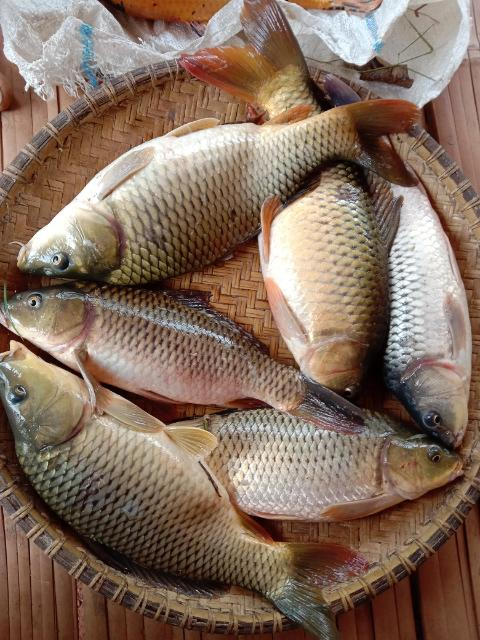Mulut: (0, 328, 42, 388), (2, 235, 48, 288), (438, 430, 478, 486), (444, 408, 480, 458)
Sirip Anal: (255, 92, 316, 132)
Sirip Dada: (253, 266, 322, 356), (309, 478, 421, 532), (424, 285, 480, 391), (80, 142, 164, 208), (88, 381, 164, 442)
Sirip Ekor: (250, 536, 390, 640), (330, 82, 450, 202), (172, 2, 302, 98), (272, 369, 380, 441)
Sirip Perut: (237, 185, 295, 285), (162, 418, 230, 466), (164, 108, 226, 142)
Sirip Punggung: (168, 269, 280, 367), (349, 146, 415, 262)
